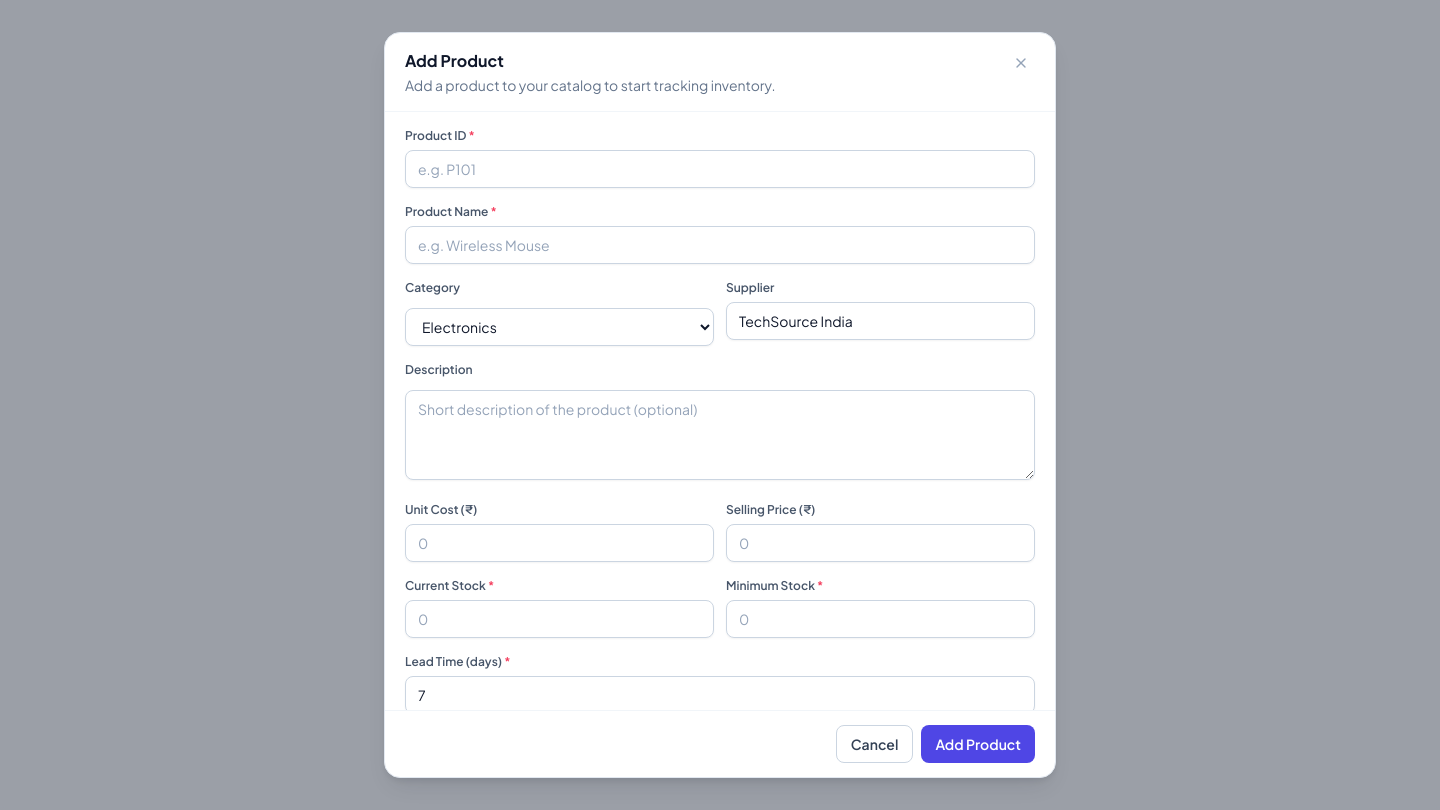
Test: adding a product › refuses an empty lead time, which the form itself had defaulted to 7
This screenshot has width=1440, height=810.
Type "P101" into the field labelled "Product ID *". click: (720, 169)
box: [405,150,1035,188]
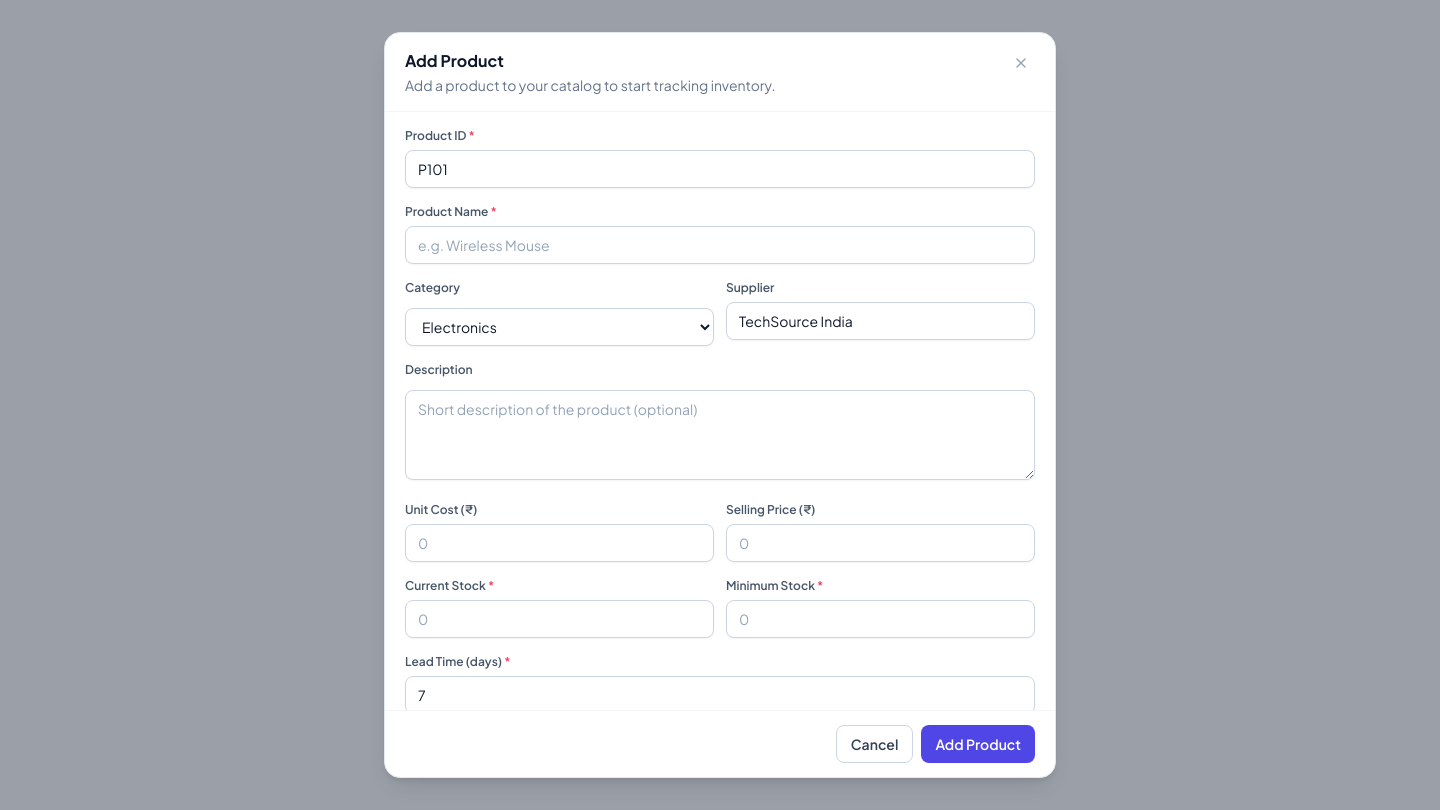
Type "Wireless Mouse" into the field labelled "Product Name *". click: (720, 245)
box: [405,226,1035,264]
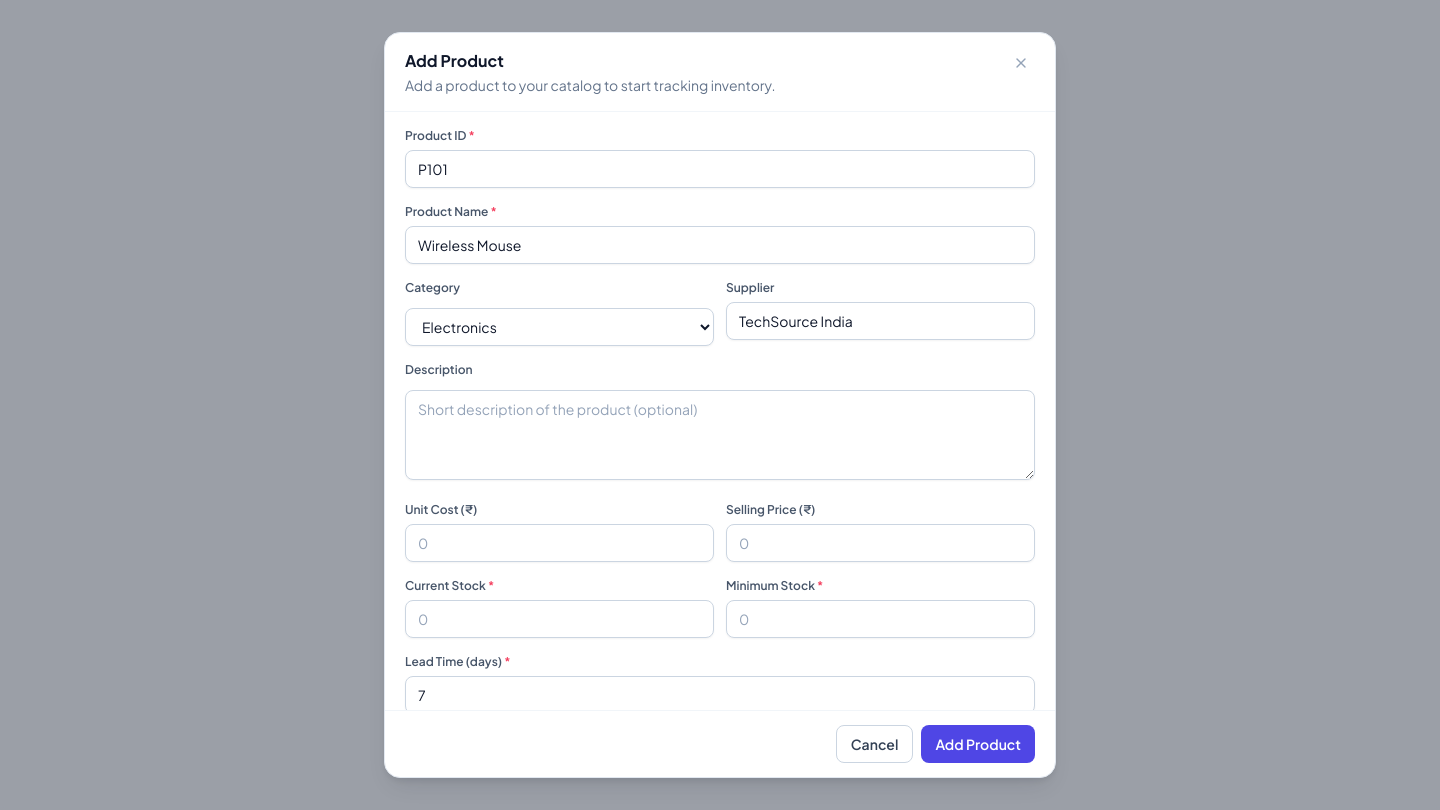
Type "40" into the number field labelled "Current Stock *". click: (560, 619)
box: [405,600,714,638]
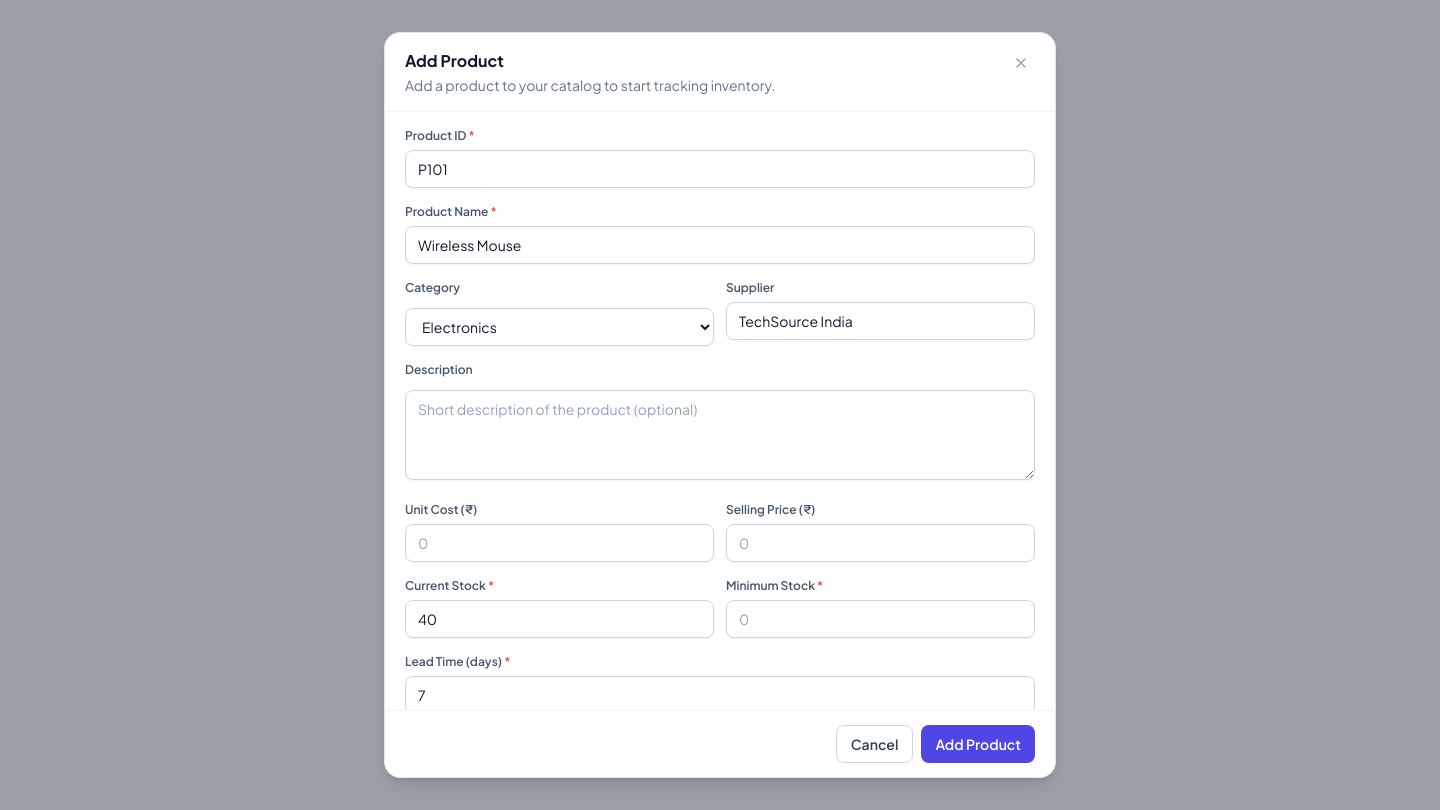
Type "10" into the number field labelled "Minimum Stock *". click: (880, 619)
box: [726,600,1035,638]
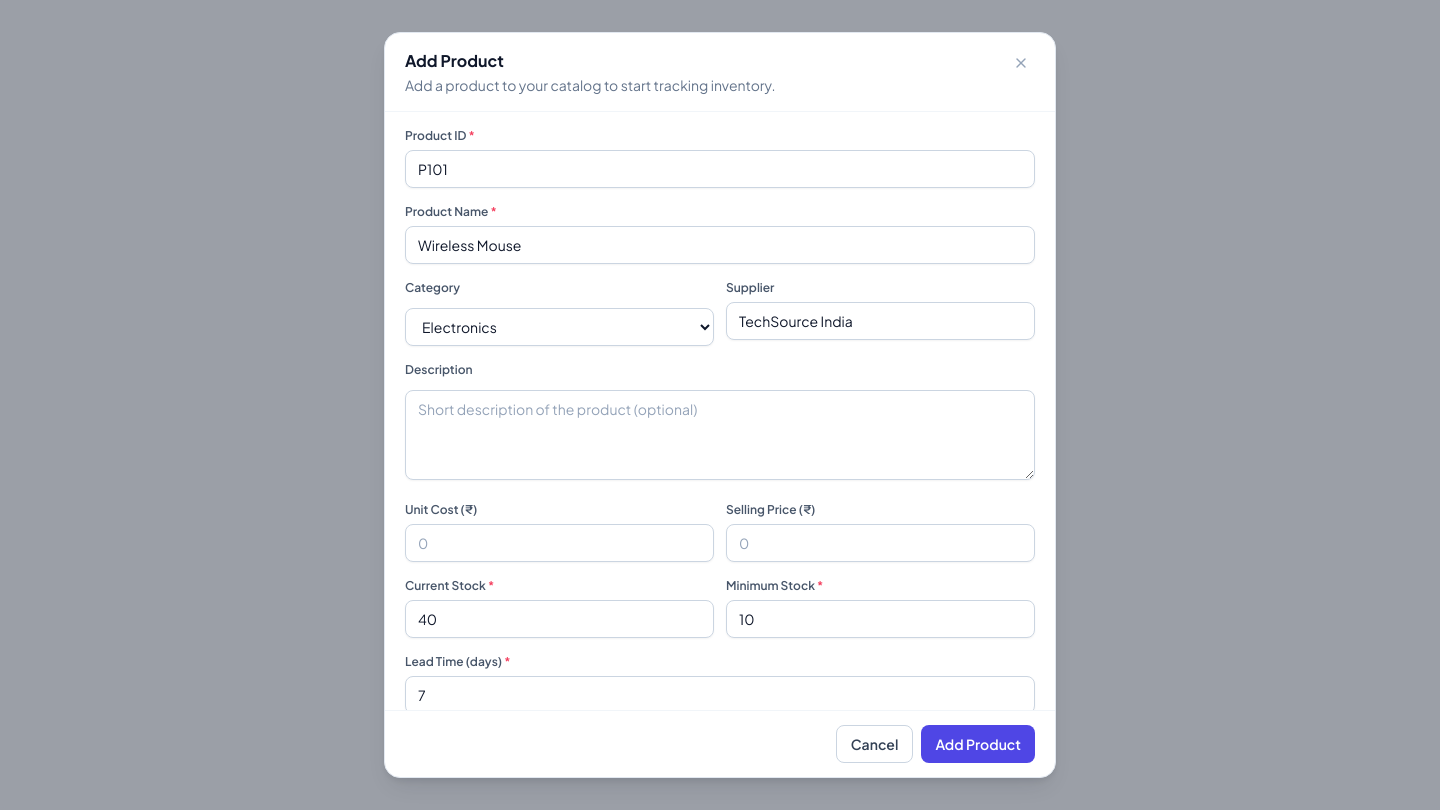
Clear the number field labelled "Lead Time (days) *". click: (720, 695)
box: [405,676,1035,714]
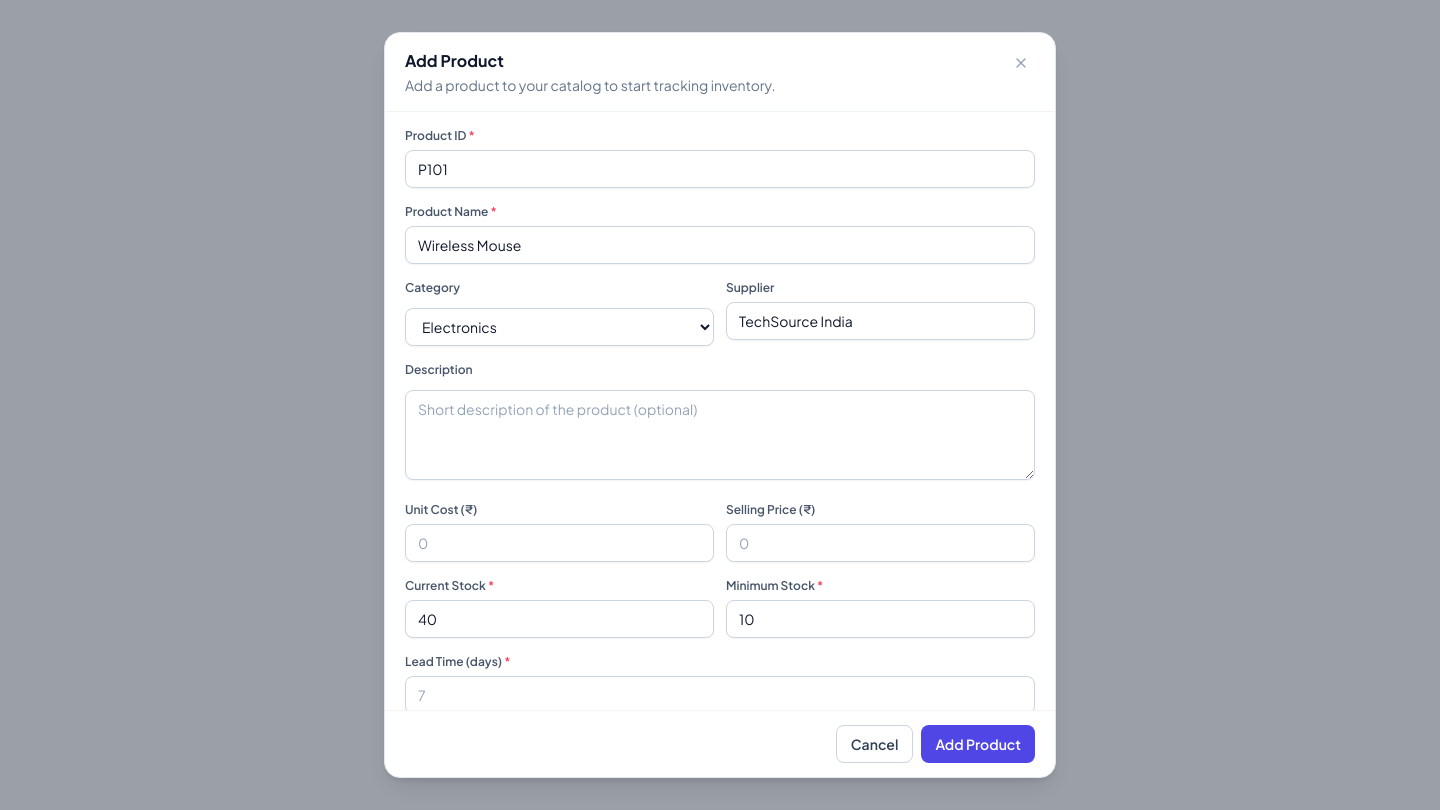
Click the button "Add Product". click: (978, 744)
box: [921,725,1035,763]
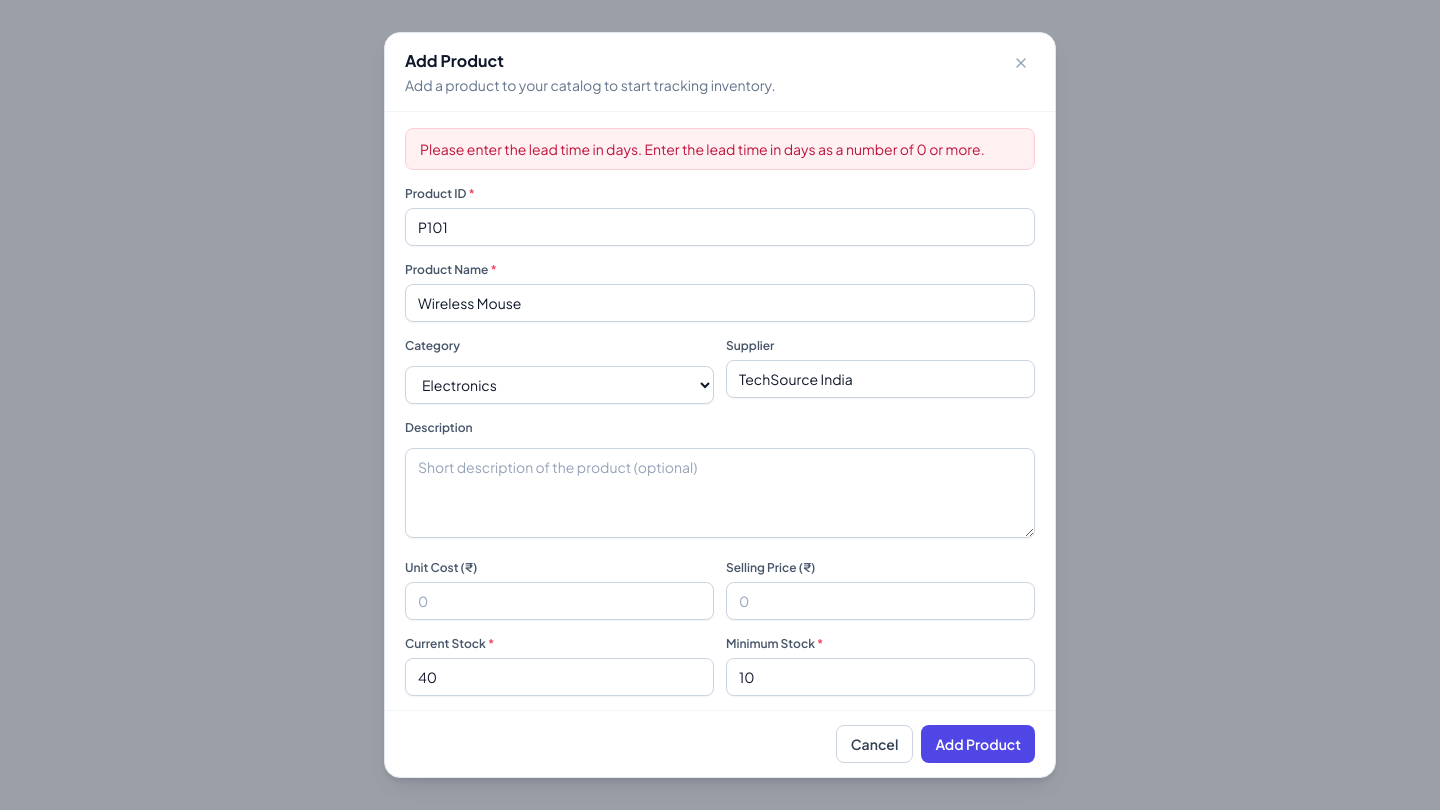
expect the text "lead time in days" is shown: met, box [420,140,985,158]
